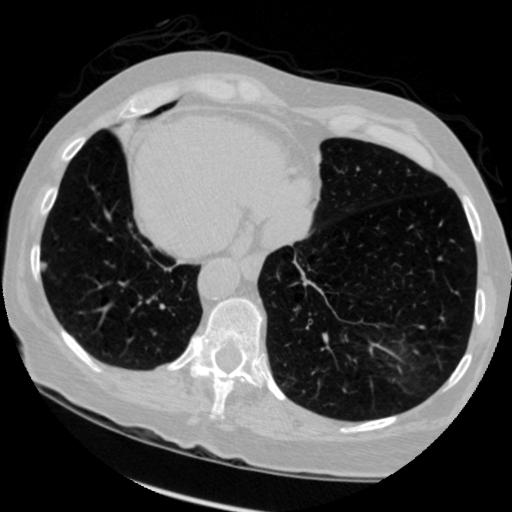nodule: (38, 259, 53, 274)
